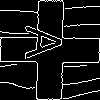A: (25, 25, 72, 60)
